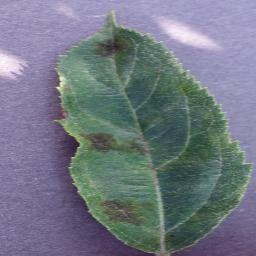apple healthy: (52, 9, 253, 255)
